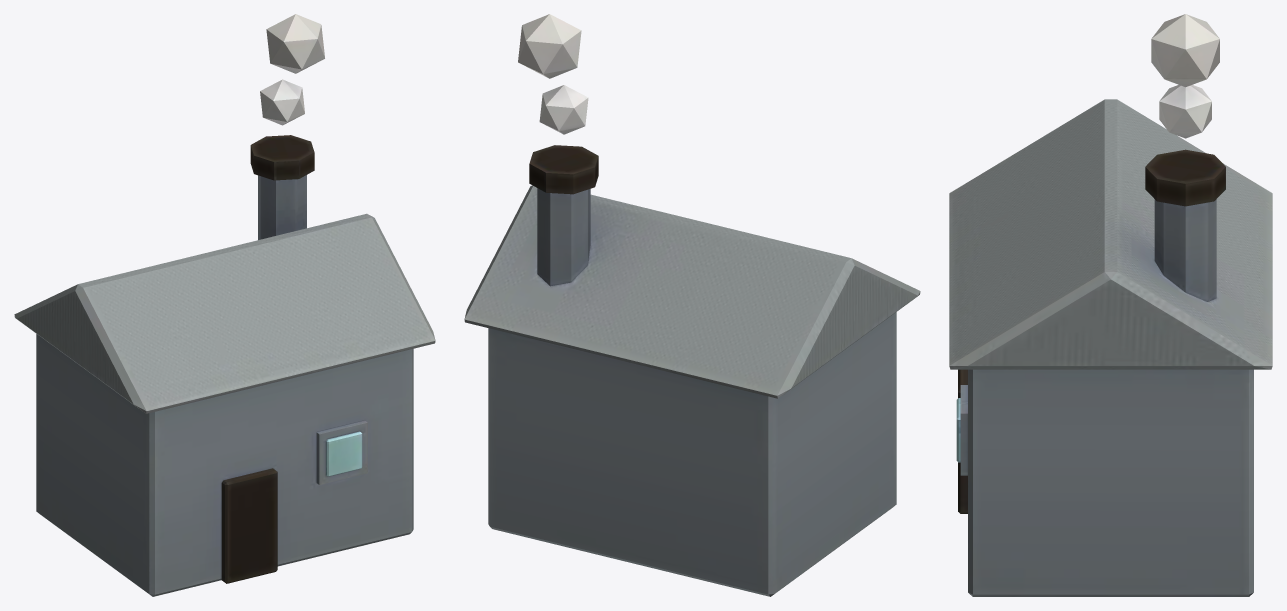
The model's file is smokehouse-1-age20.glb.
The picture shows the model from 3 angles, left to right: view 1: azimuth 30°, elevation 25°; view 2: azimuth 150°, elevation 25°; view 3: azimuth 270°, elevation 25°; orthographic projection. The views are drawn at different scales.
Visible parts, largest first — view 1: smokehouse-1-age20; view 2: smokehouse-1-age20; view 3: smokehouse-1-age20.
Boxes of the visible parts, x1=… form: smokehouse-1-age20: x1=14, y1=14, x2=435, y2=596; smokehouse-1-age20: x1=464, y1=14, x2=920, y2=596; smokehouse-1-age20: x1=949, y1=14, x2=1272, y2=596.
Bounding box in the file's own units: 0.68 × 1 × 0.52.
1 material, 1 textured.
